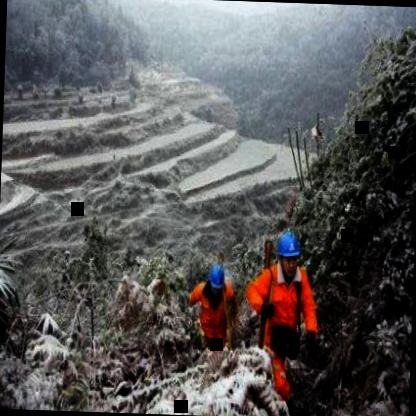helmet: (272, 227, 304, 275), (206, 263, 228, 299)
